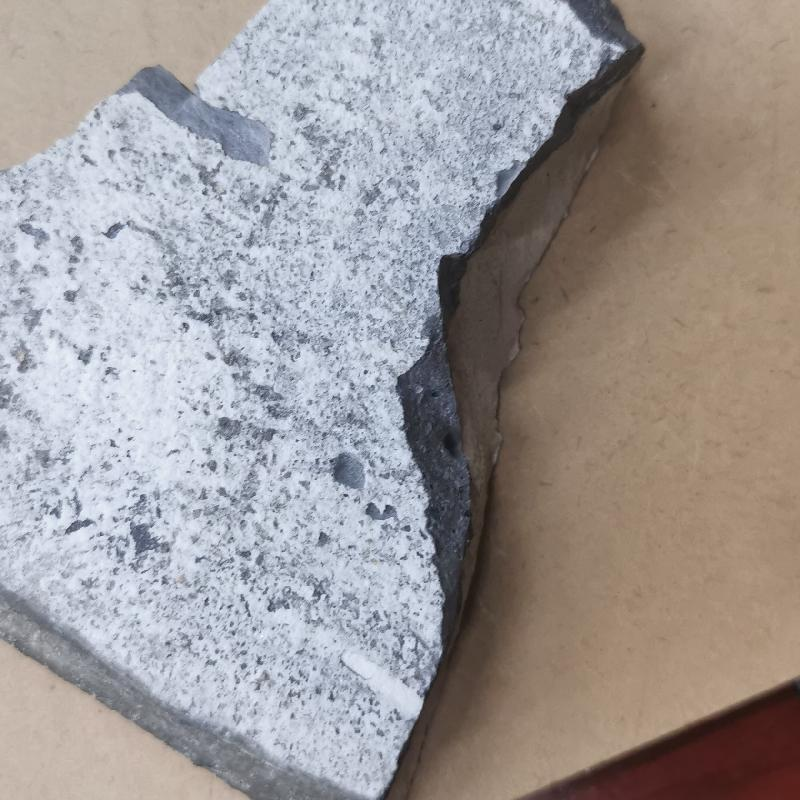tile: (1, 1, 644, 799)
